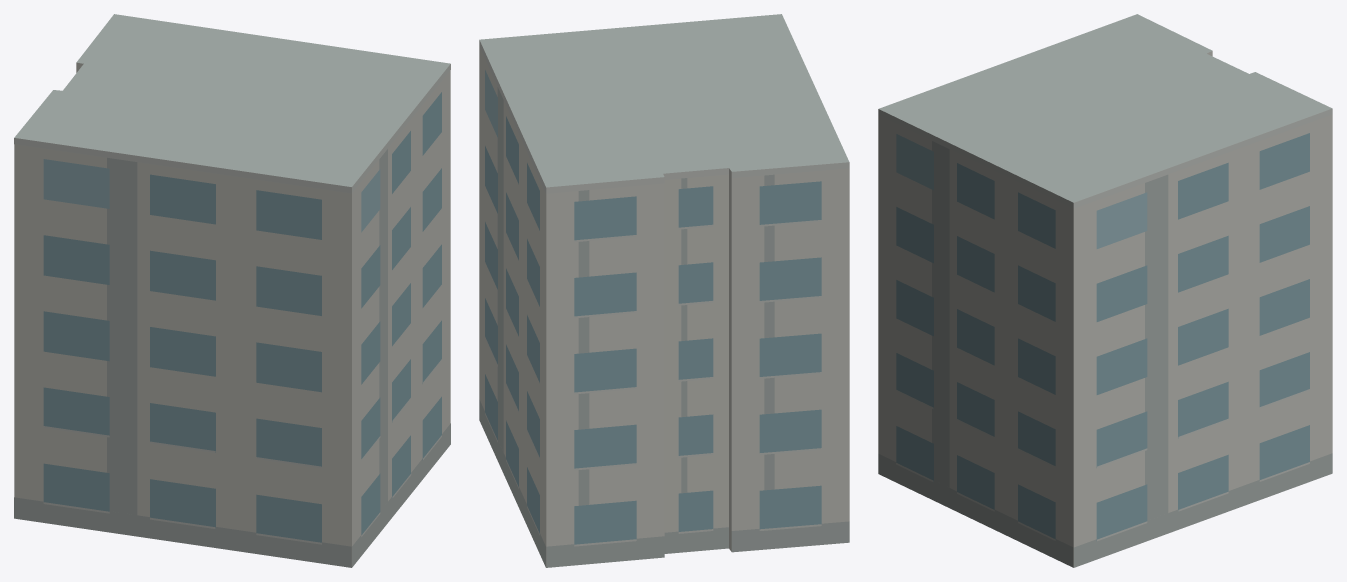
File: survey-upis-32965812.glb
3 views of the same model, side by side, from view 1: azimuth 30°, elevation 25°; view 2: azimuth 150°, elevation 25°; view 3: azimuth 270°, elevation 25° (orthographic). The views are drawn at different scales.
Parts seen in each view (by area): view 1: survey-upis-32965812.tmp; view 2: survey-upis-32965812.tmp; view 3: survey-upis-32965812.tmp.
Part boxes in pixels (left/top/right/bottom): survey-upis-32965812.tmp: left=14, top=14, right=450, bottom=567; survey-upis-32965812.tmp: left=479, top=14, right=849, bottom=567; survey-upis-32965812.tmp: left=878, top=14, right=1332, bottom=567.
Bounding box in the file's own units: 16.2 × 14.6 × 16.47.
